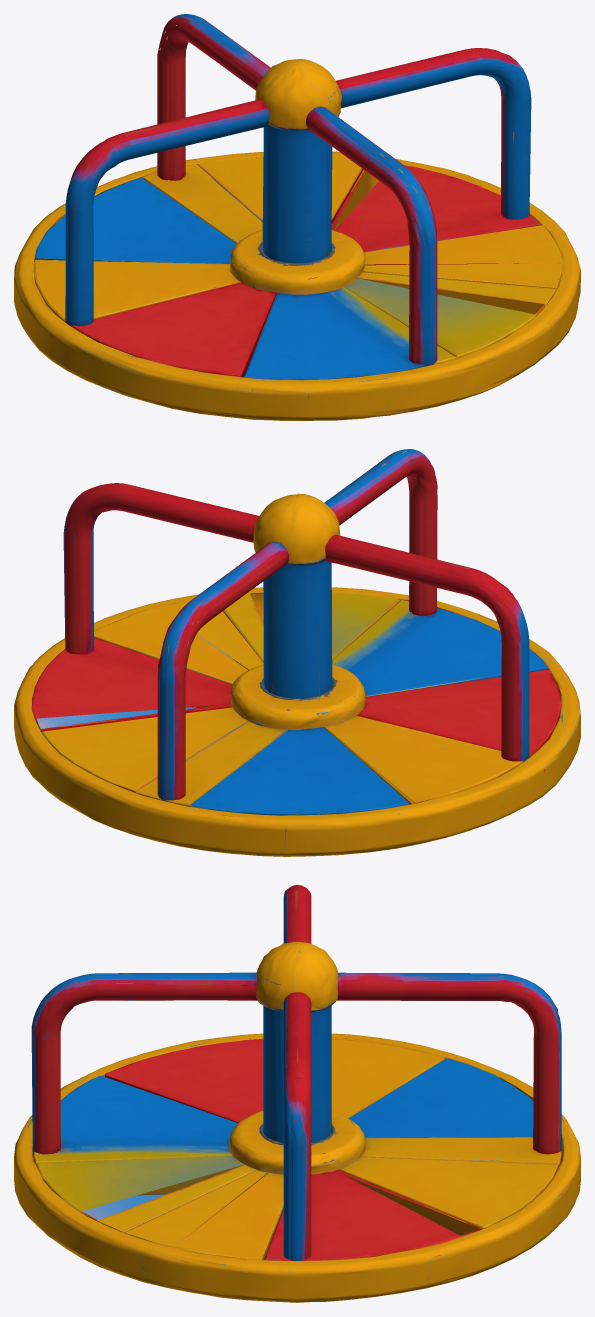
The model's file is roundabout.glb.
The picture shows the model from 3 angles, top to bottom: view 1: azimuth 30°, elevation 25°; view 2: azimuth 150°, elevation 25°; view 3: azimuth 270°, elevation 25°; orthographic projection.
Size of what is drawn, in the model's own units: 2.13 by 1 by 2.13.
1 material, 1 textured.
